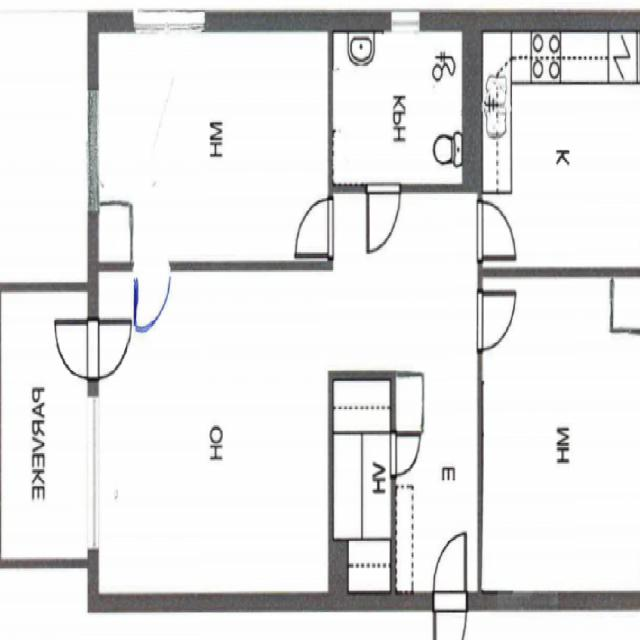door: (88, 320, 131, 378), (56, 320, 98, 378), (434, 533, 466, 609), (367, 184, 400, 252), (477, 291, 515, 349), (477, 202, 515, 259), (296, 199, 334, 256), (136, 262, 168, 326), (434, 591, 467, 640), (392, 434, 418, 475)
